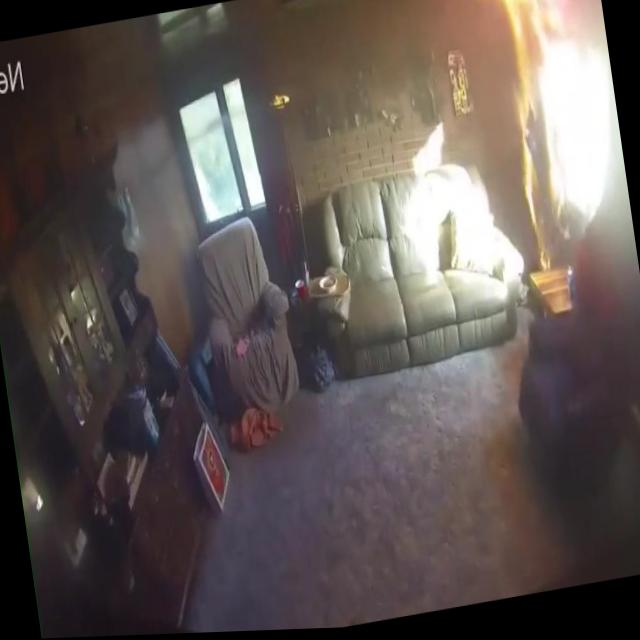fire: (492, 12, 566, 279), (432, 0, 571, 26)
